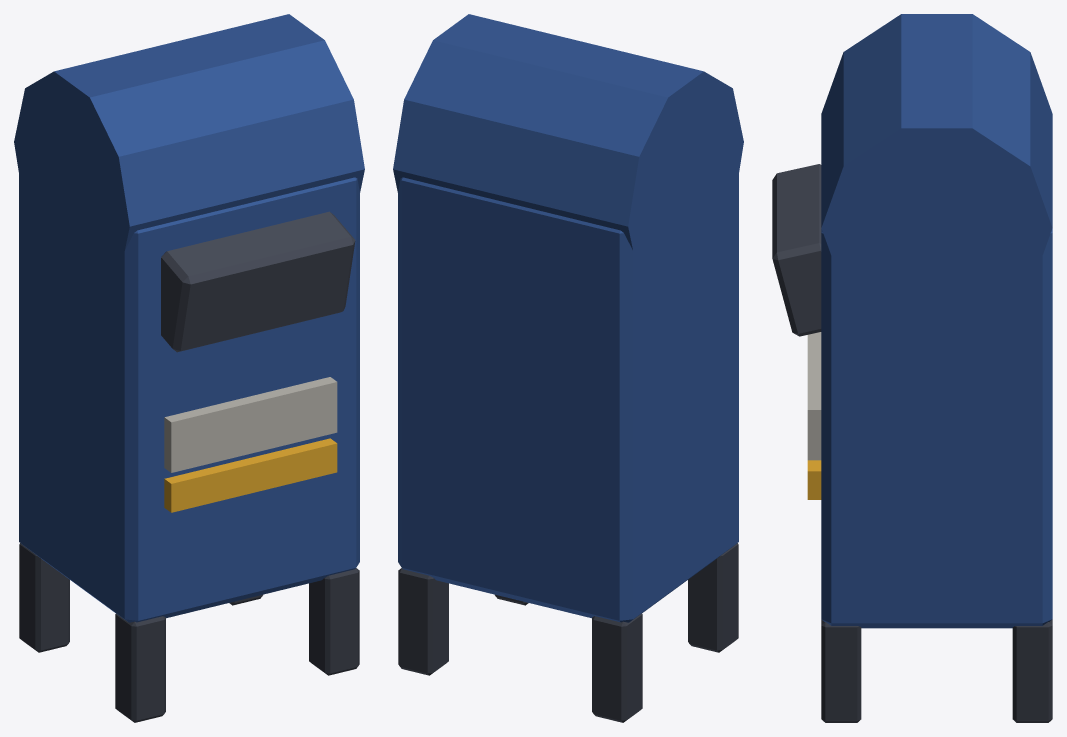
File: Stylized_Prop_Mailbox.fbx
The picture shows the model from 3 angles, left to right: view 1: azimuth 30°, elevation 25°; view 2: azimuth 150°, elevation 25°; view 3: azimuth 270°, elevation 25°; orthographic projection.
Parts seen in each view (by area): view 1: Stylized_Prop_Mailbox; view 2: Stylized_Prop_Mailbox; view 3: Stylized_Prop_Mailbox.
Part boxes in pixels (<box>): Stylized_Prop_Mailbox: <box>14,14,364,722</box>; Stylized_Prop_Mailbox: <box>393,14,743,722</box>; Stylized_Prop_Mailbox: <box>772,14,1052,722</box>.
Size of the model in its own units: 0.68 by 1.66 by 0.703.
